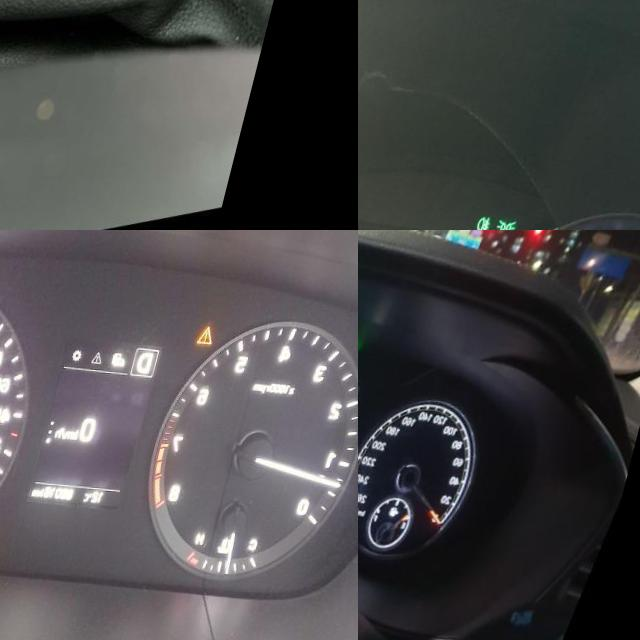FrontFogLight: (488, 210, 504, 227)
Low beam: (358, 350, 368, 364)
SideLamp: (507, 211, 530, 230)
